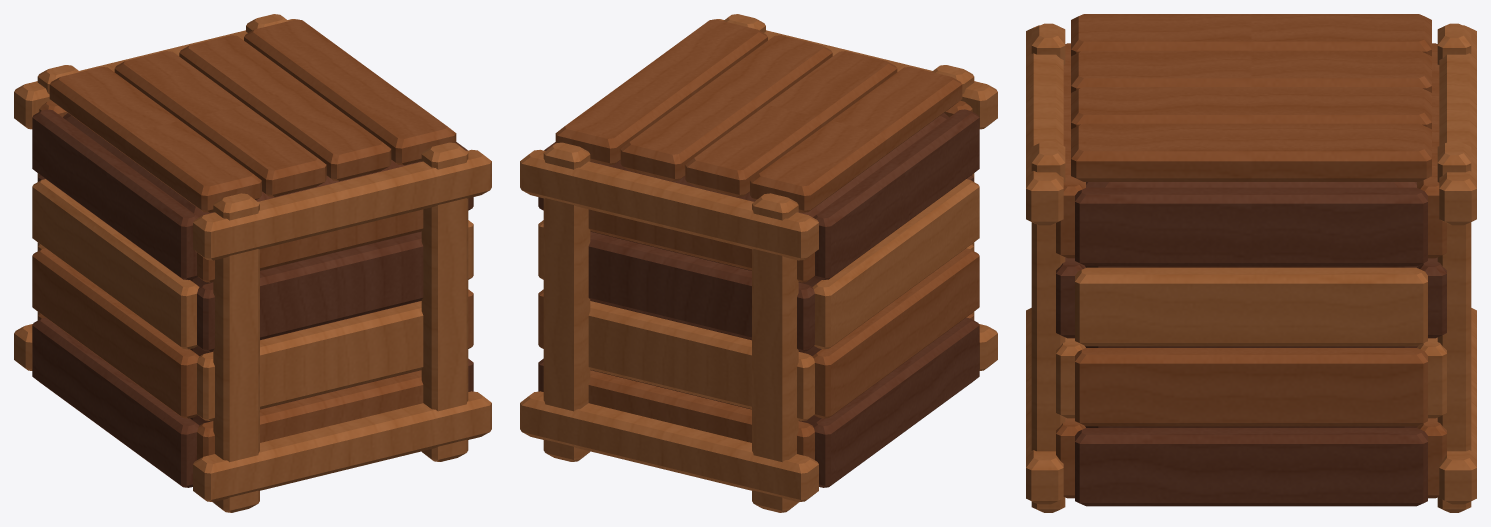
File: Prop_Crate.obj
The picture shows the model from 3 angles, left to right: view 1: azimuth 30°, elevation 25°; view 2: azimuth 150°, elevation 25°; view 3: azimuth 270°, elevation 25°; orthographic projection. The views are drawn at different scales.
Visible parts, largest first — view 1: Planked_sides, Top_planks, Cross_battens, Corner_battens, Dark_inside; view 2: Planked_sides, Top_planks, Cross_battens, Corner_battens, Dark_inside; view 3: Planked_sides, Top_planks, Corner_battens, Cross_battens, Dark_inside.
Boxes of the visible parts, x1,y1,x2,y2 form: Planked_sides: [32, 100, 473, 487]; Top_planks: [49, 19, 456, 212]; Cross_battens: [14, 19, 491, 502]; Corner_battens: [37, 14, 468, 512]; Dark_inside: [63, 113, 421, 425]; Planked_sides: [538, 100, 979, 487]; Top_planks: [555, 19, 962, 212]; Cross_battens: [520, 19, 997, 502]; Corner_battens: [543, 14, 974, 512]; Dark_inside: [590, 113, 948, 425]; Planked_sides: [1056, 43, 1446, 506]; Top_planks: [1071, 14, 1431, 181]; Corner_battens: [1031, 23, 1471, 512]; Cross_battens: [1026, 25, 1476, 504]; Dark_inside: [1085, 182, 1417, 427].
Size of the model in its own units: 1.04 by 1.07 by 1.2.
3 materials, 3 textured.
